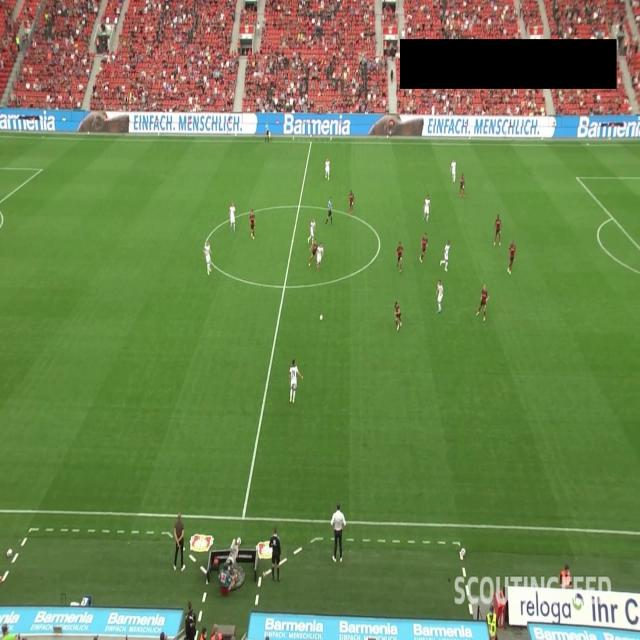ball: (318, 312, 324, 324)
player: (289, 358, 300, 401), (479, 282, 489, 322), (508, 237, 516, 277), (422, 194, 432, 224), (204, 240, 212, 277), (316, 239, 324, 274), (442, 238, 451, 269), (394, 300, 402, 333), (420, 231, 428, 263), (397, 240, 404, 276), (230, 202, 238, 232), (249, 208, 256, 242), (308, 217, 316, 245), (309, 240, 317, 268), (349, 186, 355, 215), (438, 279, 442, 317), (451, 158, 457, 182), (496, 214, 500, 249), (460, 175, 466, 198), (326, 156, 330, 180)
